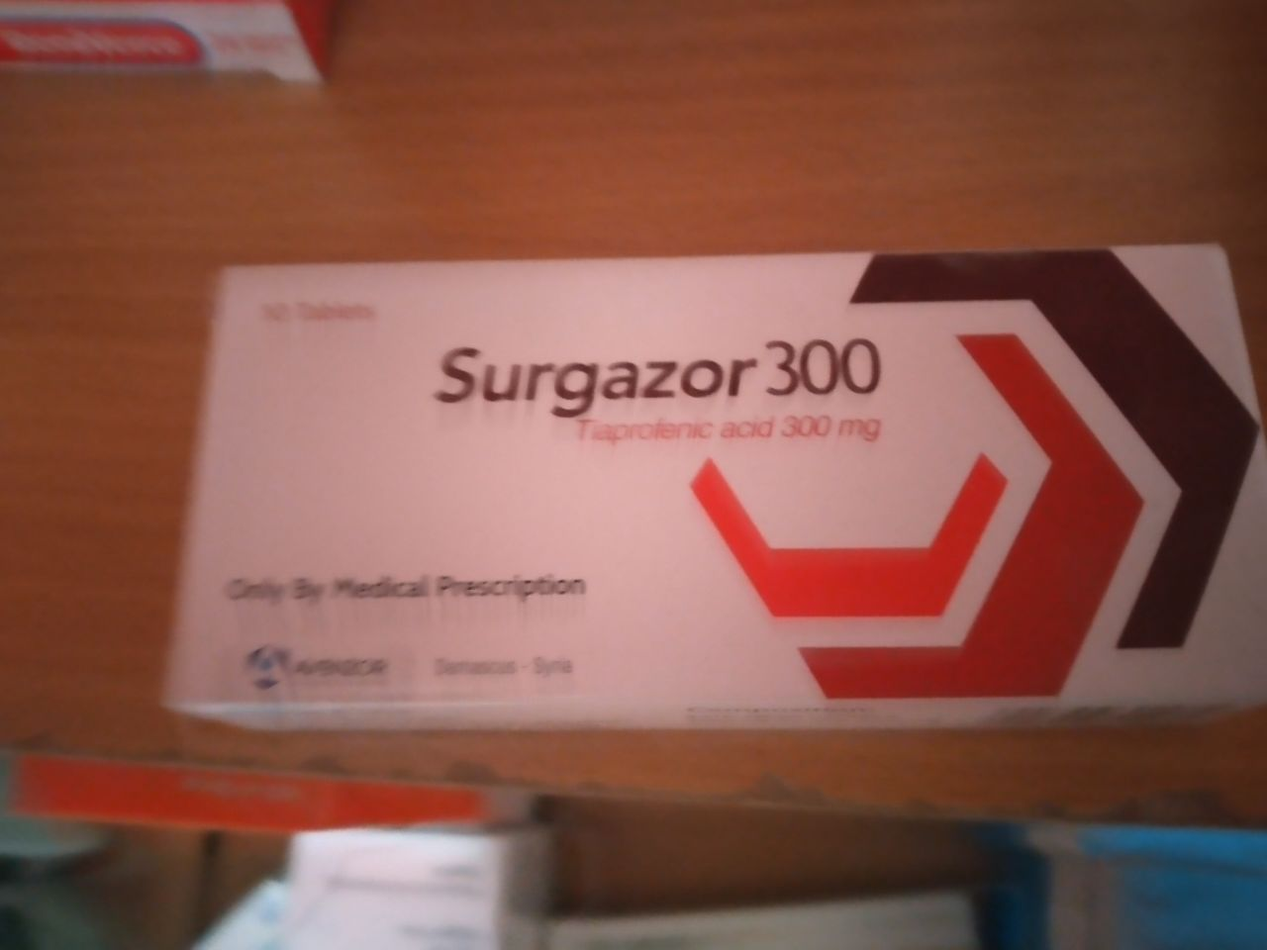Medicine: (176, 225, 1267, 760)
